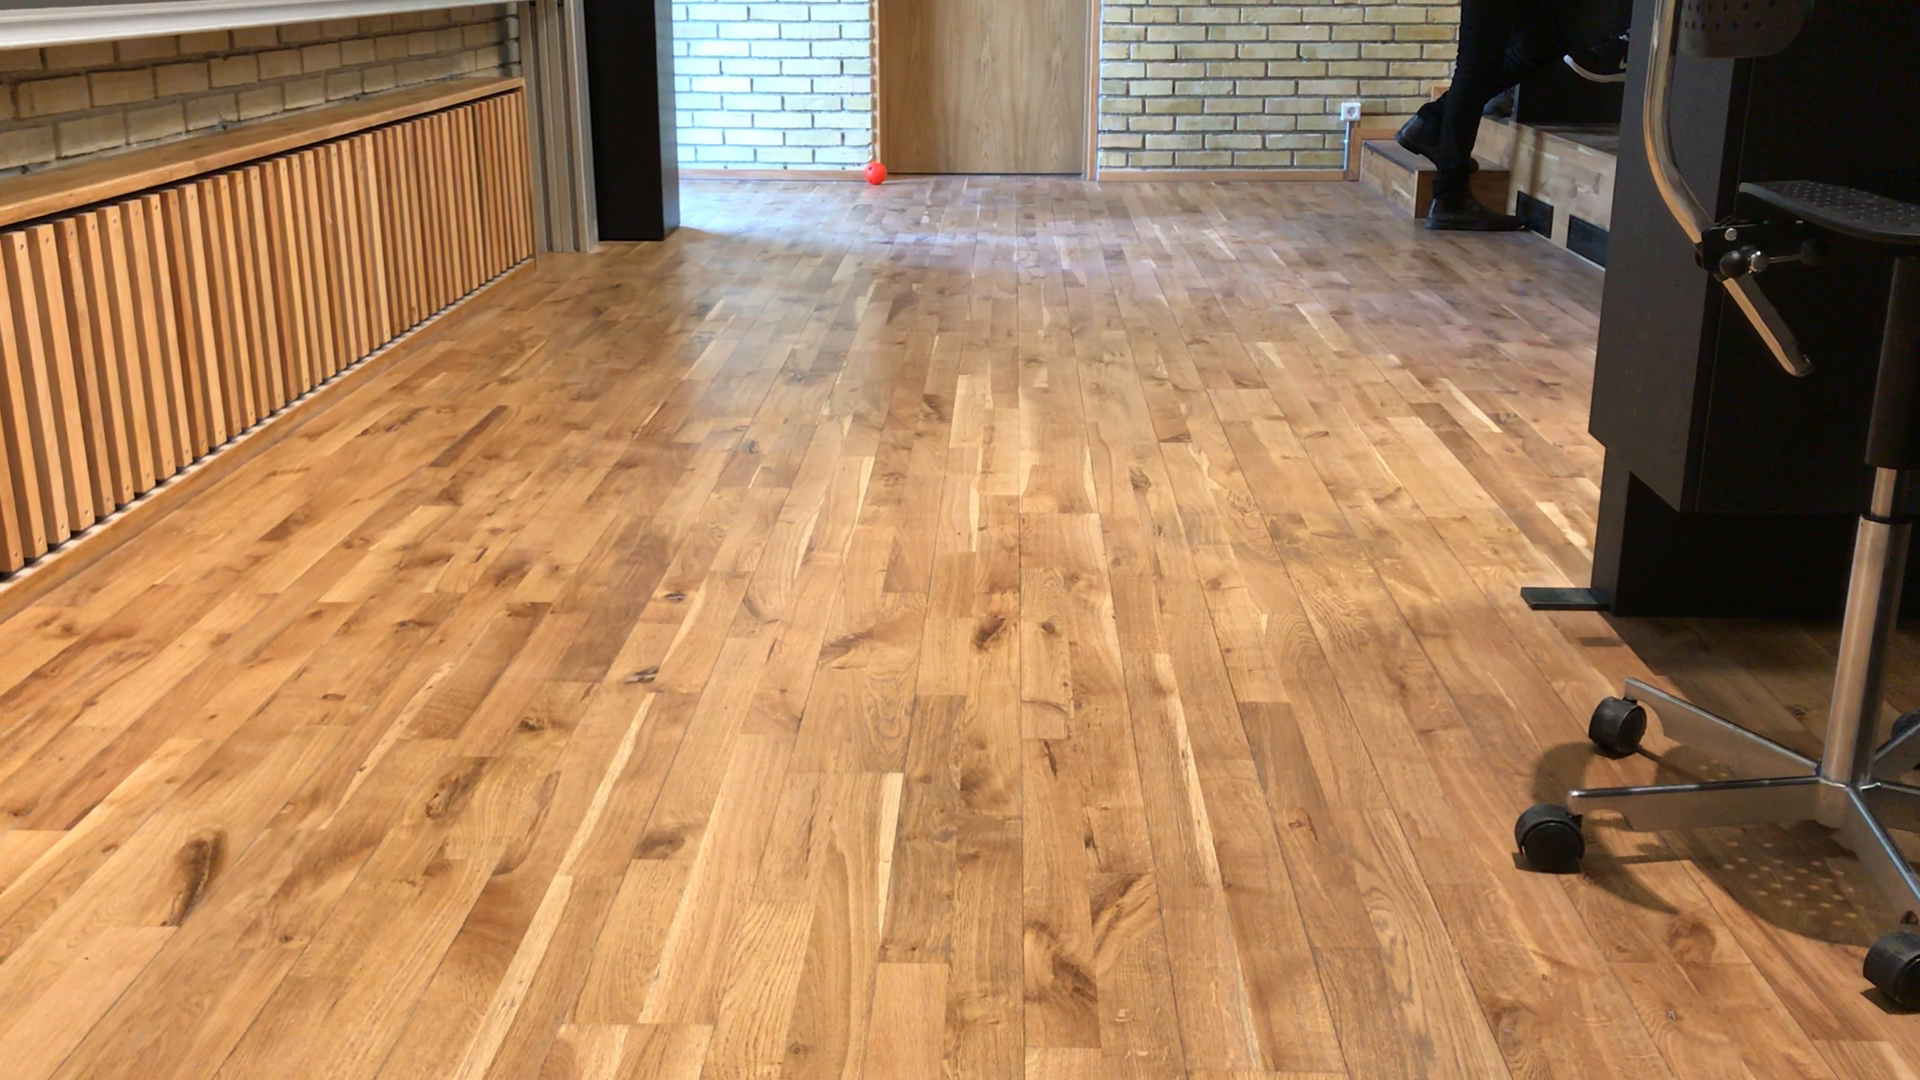Ball: (865, 160, 887, 185)
